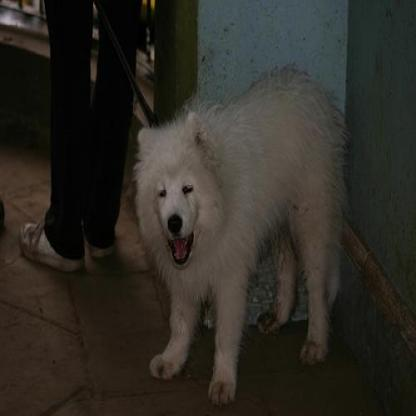Samoyed: (133, 58, 345, 398)
